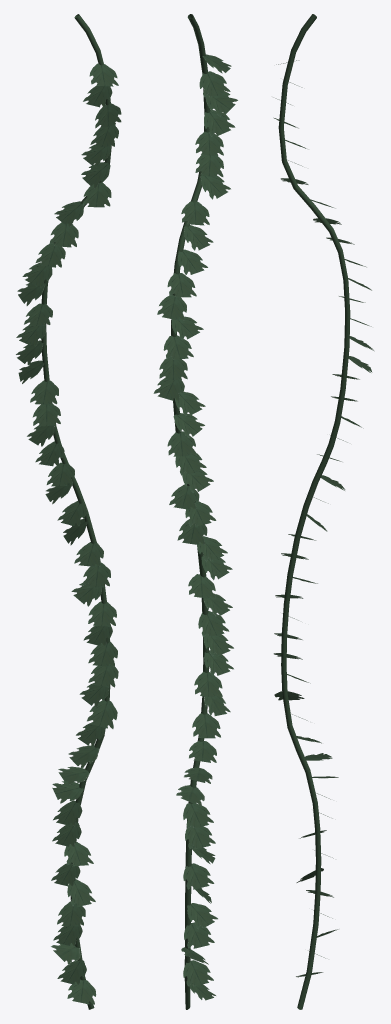
The model's file is prp_vine1_v00.fbx.
3 views of the same model, side by side, from view 1: azimuth 90°, elevation 25°; view 2: azimuth 150°, elevation 25°; view 3: azimuth 270°, elevation 25° (orthographic).
Visible parts, largest first — view 1: Vine1, Leaf34, Leaf29, Leaf10, Leaf8, Leaf18, Leaf27, Leaf31, Leaf26, Leaf19, Leaf44, Leaf11 (+36 smaller); view 2: Vine1, Leaf35, Leaf20, Leaf47, Leaf42, Leaf4, Leaf39, Leaf33, Leaf13, Leaf12, Leaf30, Leaf45 (+33 smaller); view 3: Vine1.
Part boxes in pixels (bbox=[...]): Vine1: bbox=[41, 14, 111, 1009]; Leaf34: bbox=[87, 700, 117, 728]; Leaf29: bbox=[88, 601, 116, 626]; Leaf10: bbox=[49, 222, 78, 247]; Leaf8: bbox=[82, 182, 111, 207]; Leaf18: bbox=[30, 380, 58, 404]; Leaf27: bbox=[82, 562, 110, 587]; Leaf31: bbox=[88, 642, 117, 666]; Leaf26: bbox=[74, 542, 103, 566]; Leaf19: bbox=[32, 403, 60, 426]; Leaf44: bbox=[57, 901, 85, 926]; Leaf11: bbox=[35, 243, 65, 267]; Vine1: bbox=[171, 14, 210, 1009]; Leaf35: bbox=[192, 713, 220, 738]; Leaf20: bbox=[167, 431, 196, 456]; Leaf47: bbox=[183, 960, 213, 986]; Leaf42: bbox=[183, 863, 214, 889]; Leaf4: bbox=[199, 71, 230, 97]; Leaf39: bbox=[183, 803, 213, 828]; Leaf33: bbox=[194, 671, 222, 697]; Leaf13: bbox=[157, 295, 186, 320]; Leaf12: bbox=[167, 273, 196, 297]; Leaf30: bbox=[198, 611, 229, 637]; Leaf45: bbox=[184, 922, 214, 948]; Vine1: bbox=[278, 14, 350, 1009].
Bounding box in the file's own units: 14.9 × 358 × 35.6.
1 material, 1 textured.
